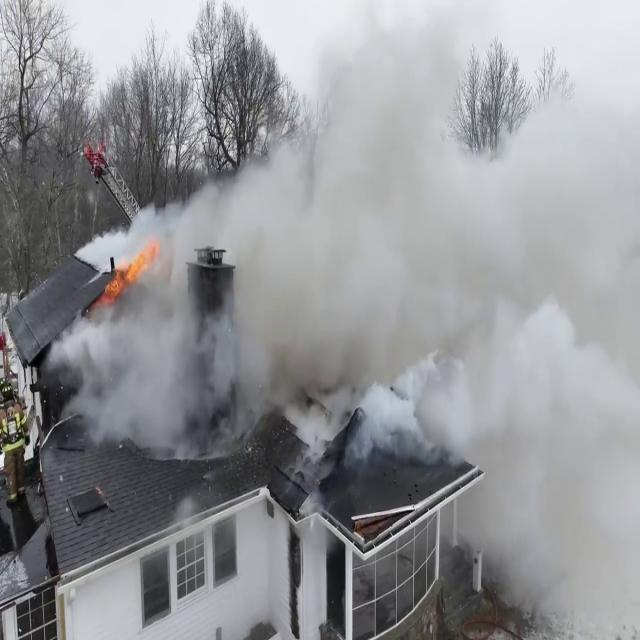Fire: (100, 232, 156, 304)
Smoke: (53, 2, 640, 474)
